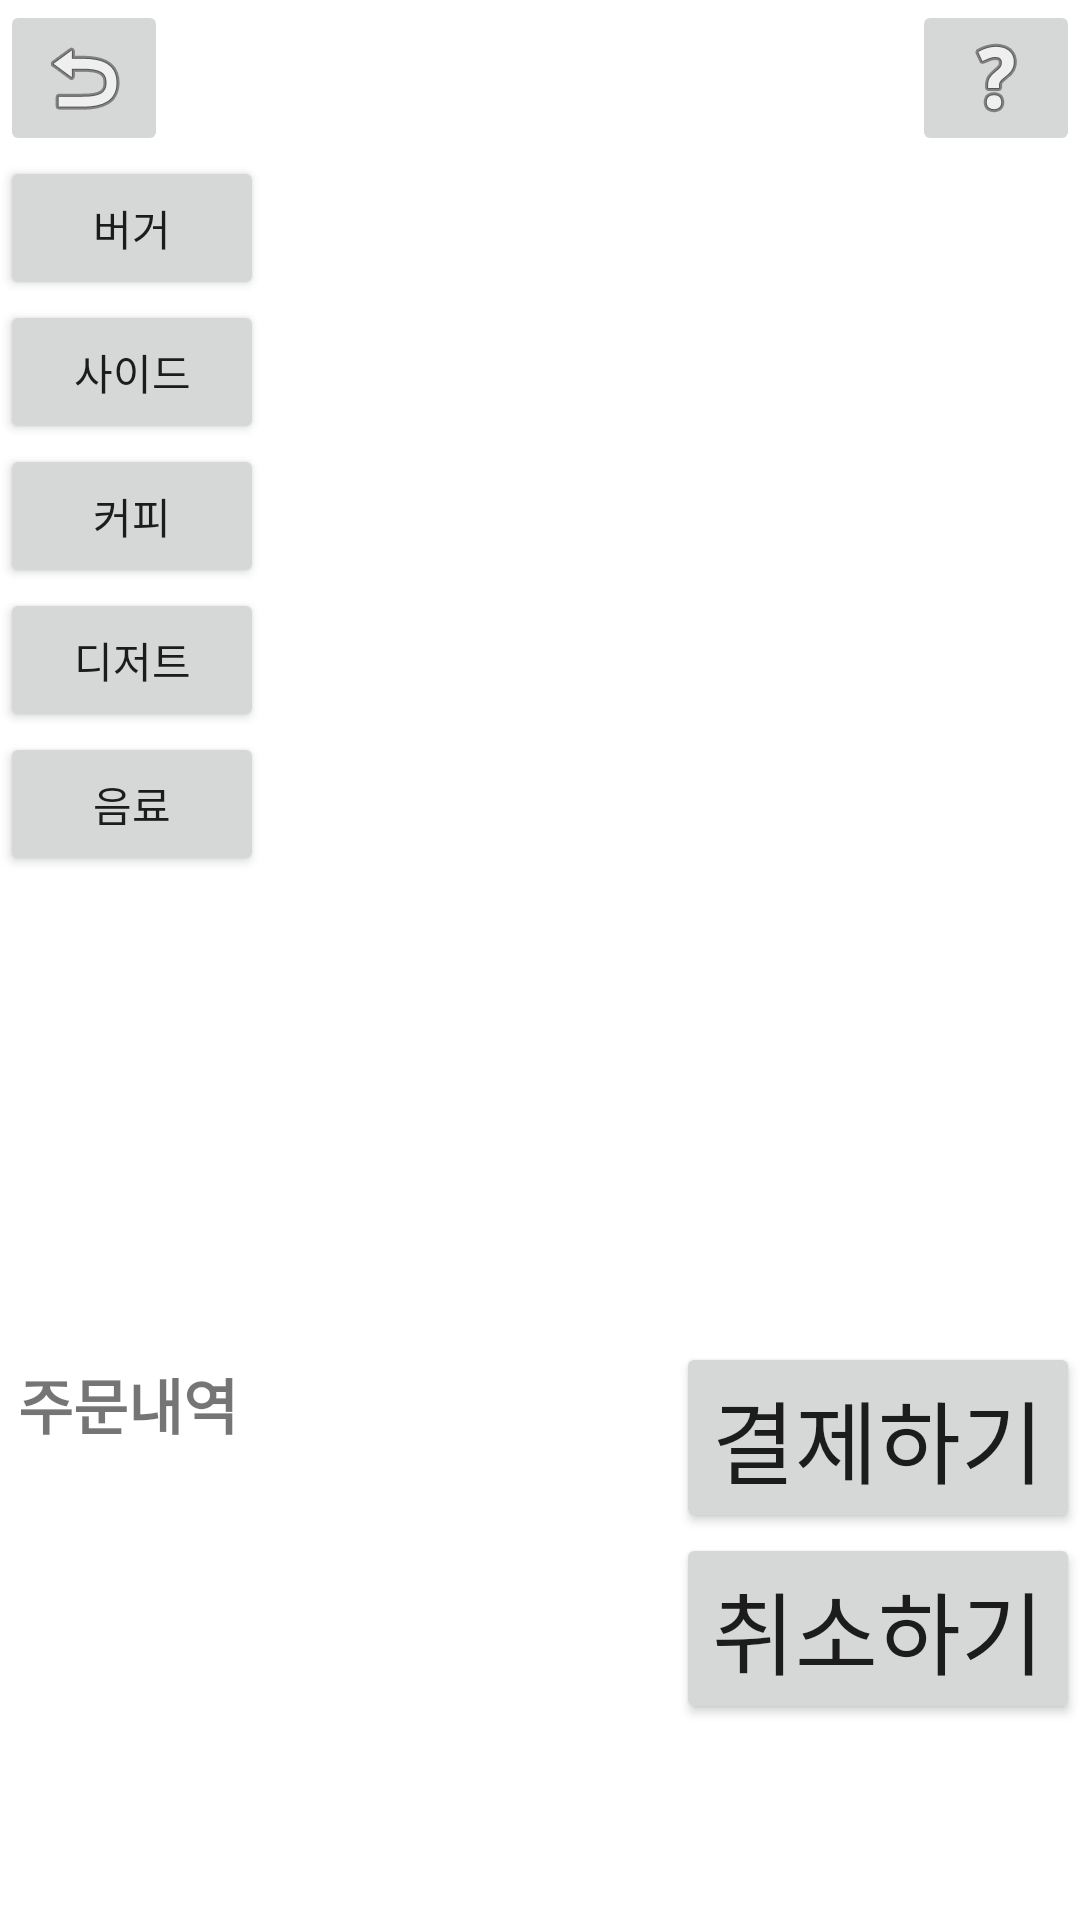

Locate icon controls on the screen. Image size 1080px×1920px, boxes as detection(x1, y1, x2, y2).
help: detection(924, 18, 1068, 138)
revert: detection(12, 18, 156, 138)
